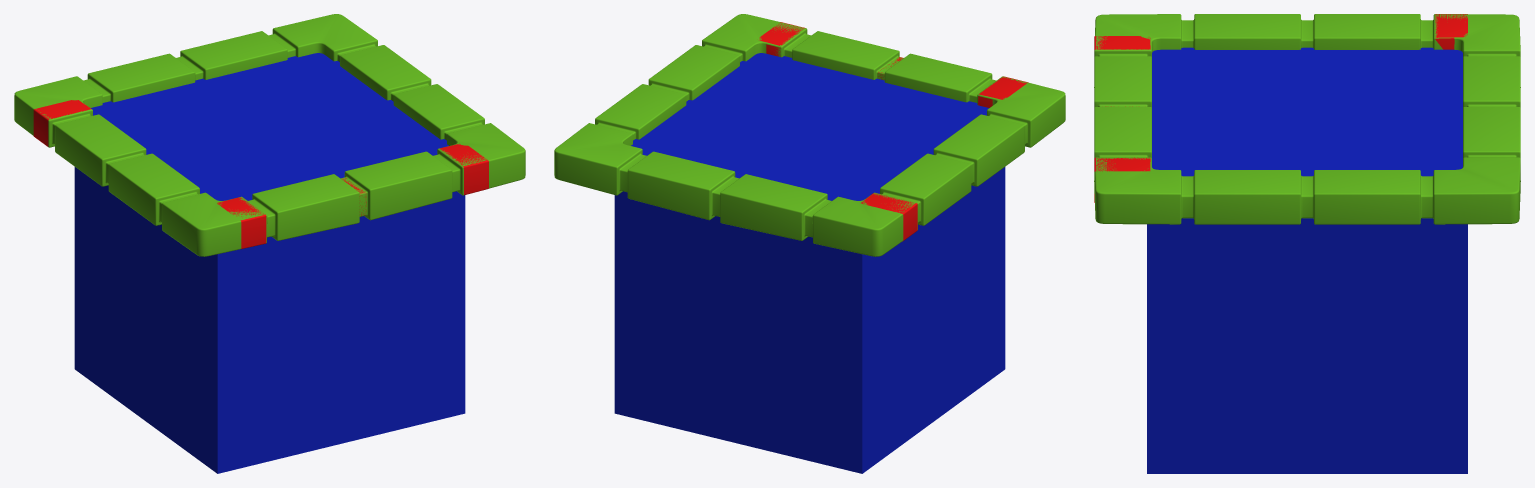
The model's file is Dirt_and_Edges.fbx.
3 views of the same model, side by side, from view 1: azimuth 30°, elevation 25°; view 2: azimuth 150°, elevation 25°; view 3: azimuth 270°, elevation 25° (orthographic). The views are drawn at different scales.
Visible parts, largest first — view 1: DirtCube, Earth_Edge_Cube, Earth_Edge_Corner, Earth_Edge_Horizontal; view 2: DirtCube, Earth_Edge_Cube, Earth_Edge_Corner, Earth_Edge_Horizontal; view 3: DirtCube, Earth_Edge_Cube, Earth_Edge_Corner, Earth_Edge_Horizontal.
Part boxes in pixels (<box>): DirtCube: <box>74,53,465,473</box>; Earth_Edge_Cube: <box>14,14,525,256</box>; Earth_Edge_Corner: <box>33,100,488,195</box>; Earth_Edge_Horizontal: <box>217,178,366,249</box>; DirtCube: <box>614,53,1005,473</box>; Earth_Edge_Cube: <box>554,14,1065,256</box>; Earth_Edge_Corner: <box>759,22,917,241</box>; Earth_Edge_Horizontal: <box>878,57,1028,107</box>; DirtCube: <box>1147,47,1467,473</box>; Earth_Edge_Cube: <box>1094,14,1520,224</box>; Earth_Edge_Corner: <box>1094,14,1467,202</box>; Earth_Edge_Horizontal: <box>1094,36,1150,106</box>.
Size of the model in its own units: 1330 by 1041 by 1330.
